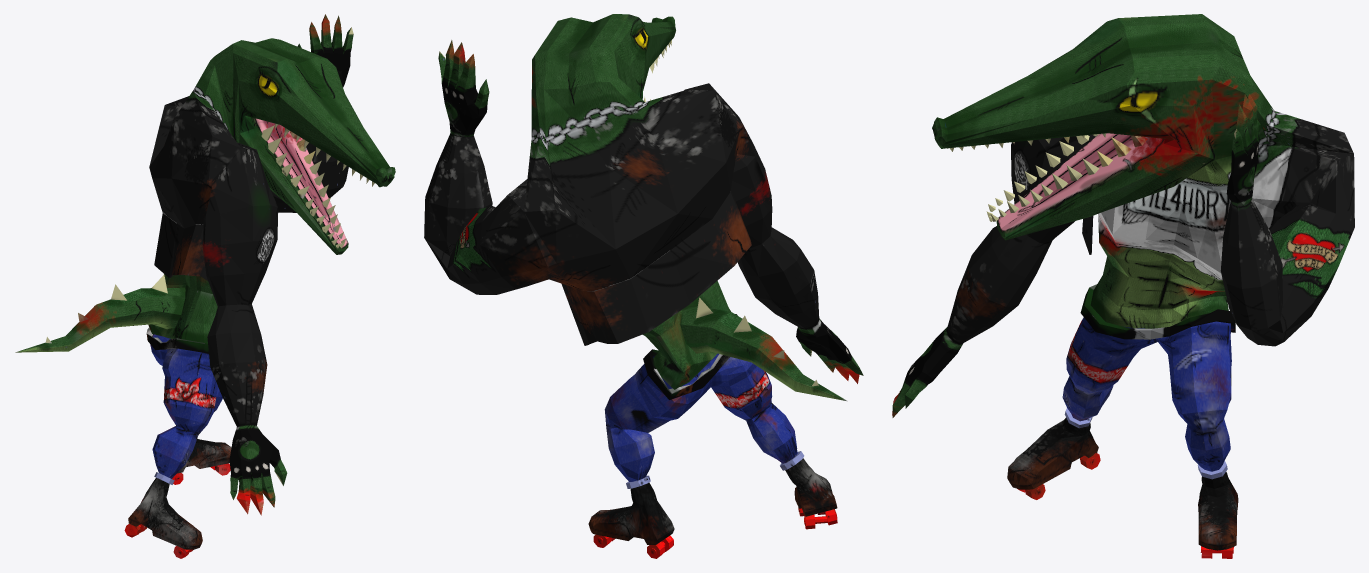
Rendered from cocodrilaBonesSelect_000043.obj.
3 renders of one model, left to right at view 1: azimuth 30°, elevation 25°; view 2: azimuth 150°, elevation 25°; view 3: azimuth 270°, elevation 25°, orthographic. The views are drawn at different scales.
Visible parts, largest first — view 1: Crocodile.002_Cylinder.002; view 2: Crocodile.002_Cylinder.002; view 3: Crocodile.002_Cylinder.002.
Part boxes in pixels (bbox=[...]): Crocodile.002_Cylinder.002: bbox=[15, 14, 395, 558]; Crocodile.002_Cylinder.002: bbox=[424, 14, 863, 558]; Crocodile.002_Cylinder.002: bbox=[892, 14, 1354, 558].
Size of the model in its own units: 5.22 by 6.18 by 4.66.
